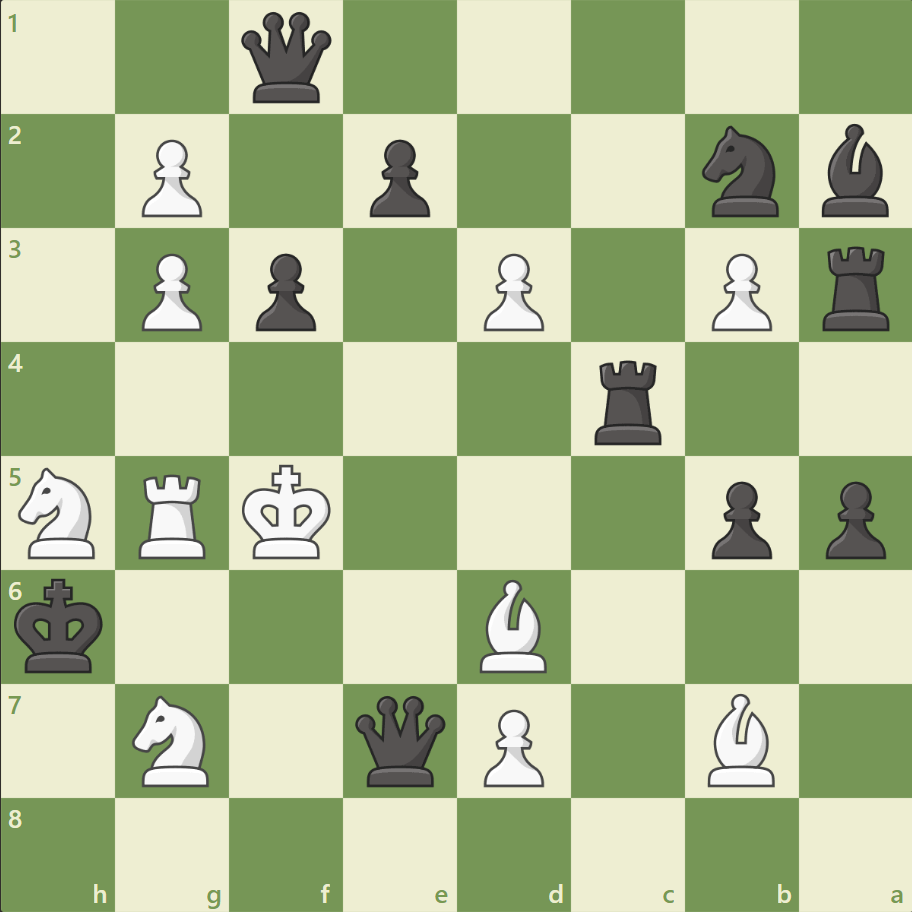B: (698, 687, 782, 790), (471, 574, 555, 676)
K: (238, 458, 338, 566)
N: (124, 688, 222, 791), (11, 461, 108, 564)
P: (474, 700, 549, 791), (701, 246, 776, 337), (474, 246, 549, 337), (133, 246, 208, 337), (133, 132, 208, 223)
R: (133, 466, 215, 563)
b: (812, 120, 896, 222)
k: (11, 571, 111, 679)
n: (692, 121, 789, 223)
p: (701, 473, 776, 564), (247, 246, 322, 337), (815, 473, 889, 564), (361, 132, 435, 223)
q: (351, 690, 450, 789), (237, 9, 336, 108)
r: (587, 352, 670, 449), (814, 239, 897, 336)
